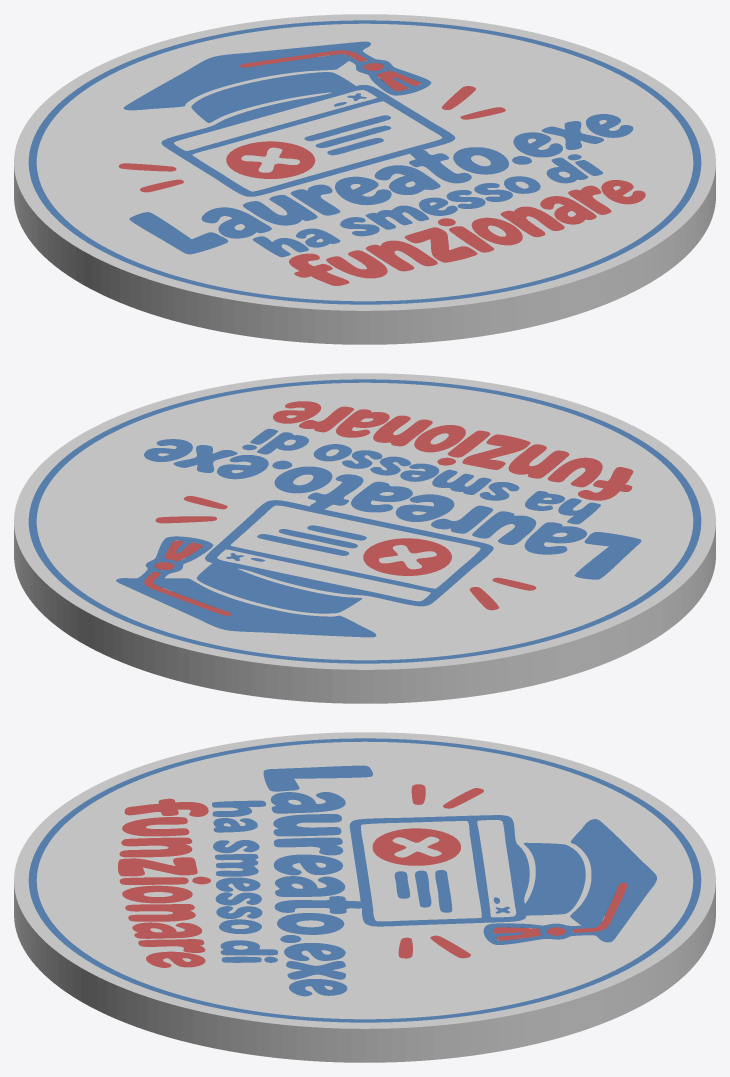
Rendered from sottobicchiere-laureato-exe.glb.
3 renders of one model, top to bottom at view 1: azimuth 30°, elevation 25°; view 2: azimuth 150°, elevation 25°; view 3: azimuth 270°, elevation 25°, orthographic.
Visible parts, largest first — view 1: coaster_base, coaster_ink, coaster_accent; view 2: coaster_base, coaster_ink, coaster_accent; view 3: coaster_base, coaster_ink, coaster_accent.
Part boxes in pixels (x1,y1,x2,y2): coaster_base: [14, 14, 715, 344]; coaster_ink: [28, 20, 701, 304]; coaster_accent: [118, 50, 645, 285]; coaster_base: [14, 373, 715, 703]; coaster_ink: [28, 379, 701, 663]; coaster_accent: [144, 401, 633, 615]; coaster_base: [14, 732, 715, 1062]; coaster_ink: [28, 738, 701, 1022]; coaster_accent: [118, 784, 627, 967].
Bounding box in the file's own units: 0.075 × 0.004 × 0.075.
